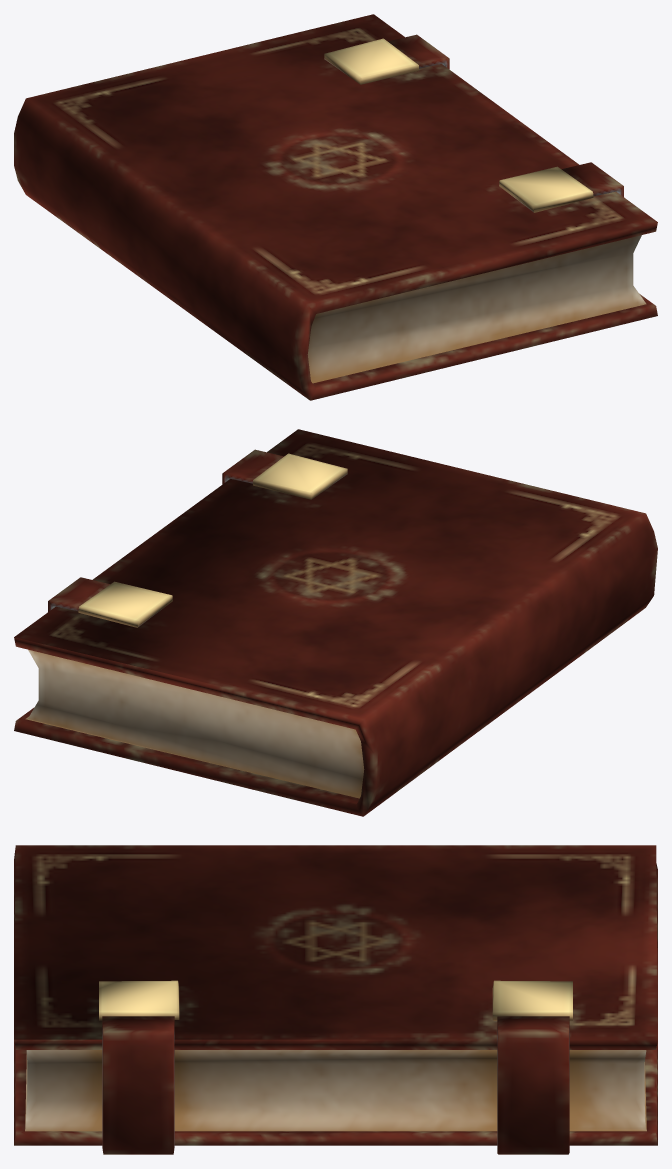
Rendered from spellbook.glb.
3 views of the same model, one above another, from view 1: azimuth 30°, elevation 25°; view 2: azimuth 150°, elevation 25°; view 3: azimuth 270°, elevation 25° (orthographic). The views are drawn at different scales.
Parts seen in each view (by area): view 1: Book_low, Clamps_low, Straps_low; view 2: Book_low, Clamps_low, Straps_low; view 3: Book_low, Straps_low, Clamps_low.
Part boxes in pixels (x1=…): Book_low: x1=14, y1=14, x2=657, y2=400; Clamps_low: x1=324, y1=38, x2=593, y2=212; Straps_low: x1=388, y1=34, x2=623, y2=196; Book_low: x1=14, y1=429, x2=657, y2=816; Clamps_low: x1=78, y1=453, x2=347, y2=627; Straps_low: x1=48, y1=449, x2=283, y2=611; Book_low: x1=14, y1=845, x2=657, y2=1145; Straps_low: x1=102, y1=1016, x2=569, y2=1154; Clamps_low: x1=99, y1=980, x2=572, y2=1020.
Bounding box in the file's own units: 0.3154 × 0.0904 × 0.4244.
1 material, 1 textured.
